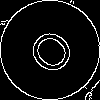O: (25, 25, 85, 85)
